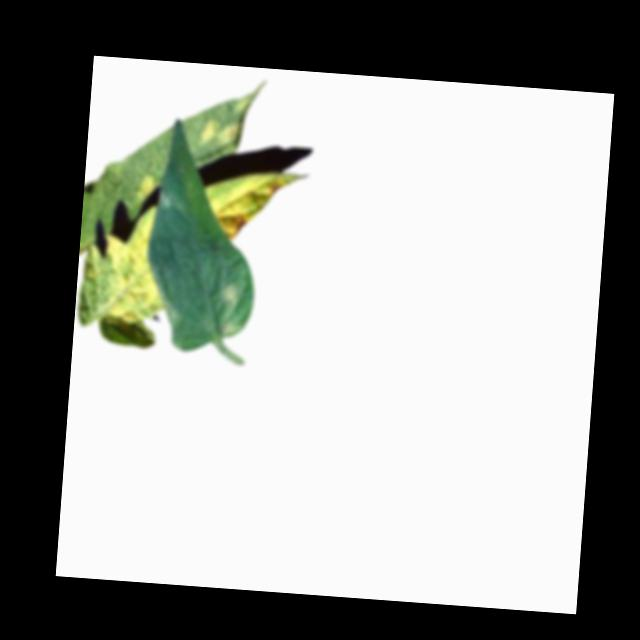Leaf_Mold: (76, 206, 173, 324), (205, 165, 312, 243), (198, 117, 240, 148), (133, 171, 153, 197), (218, 277, 237, 303)
